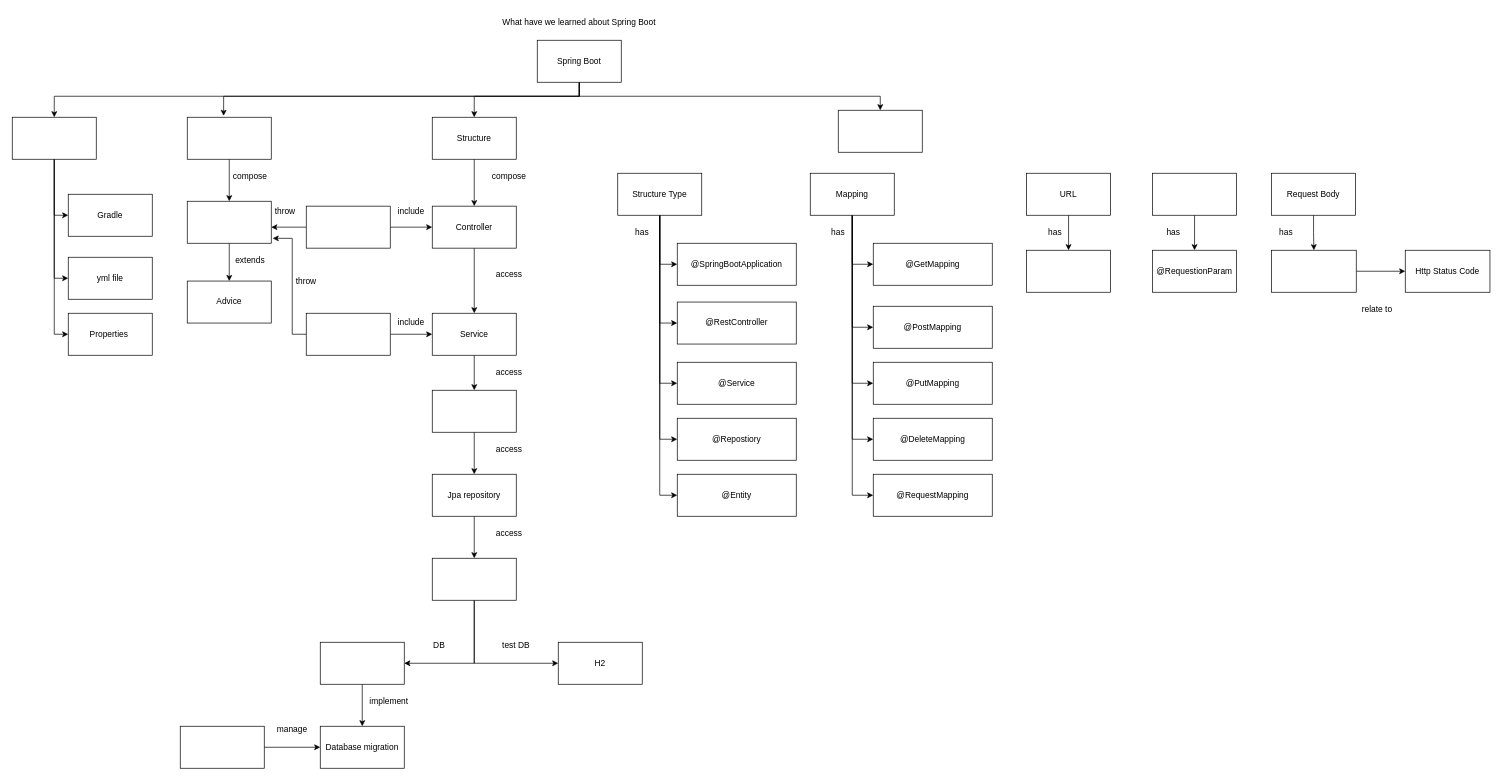
The diagram is 1502 pixels wide and 781 high, and some of its shapes have lost their labels. The shapes that lost their labels are listed below. From the top down, each one's centre as x and y in pixels, then its label:
At pixel 54 138: "Configuration".
At pixel 229 138: "Error Control".
At pixel 880 131: "Annotation".
At pixel 1194 194: "Query".
At pixel 229 222: "Exception".
At pixel 348 226: "API test".
At pixel 1068 271: "@PathVariable".
At pixel 1313 271: "@ResponseStatus".
At pixel 348 334: "Unit Test".
At pixel 474 411: "Repository".
At pixel 474 579: "Database".
At pixel 362 663: "Jdbc".
At pixel 222 747: "flyway".
